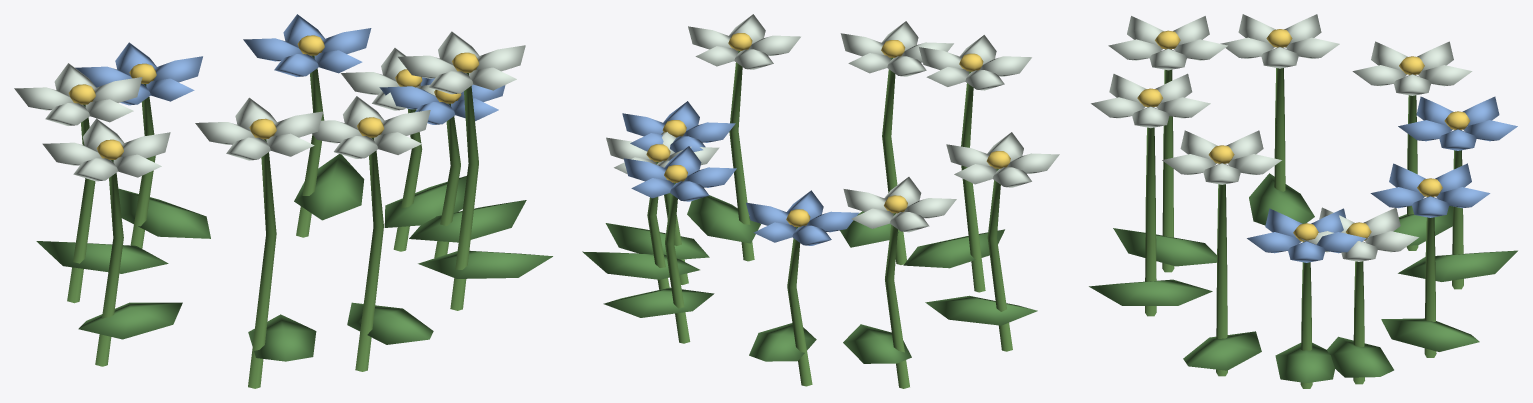
Rendered from flowers.glb.
3 views of the same model, side by side, from view 1: azimuth 30°, elevation 25°; view 2: azimuth 150°, elevation 25°; view 3: azimuth 270°, elevation 25° (orthographic). The views are drawn at different scales.
Parts seen in each view (by area): view 1: flowers_Painted jade foliage, flowers_Porcelain petals; view 2: flowers_Porcelain petals, flowers_Painted jade foliage; view 3: flowers_Porcelain petals, flowers_Painted jade foliage.
Boxes of the visible parts, bbox=[...] form: flowers_Painted jade foliage: bbox=[36, 55, 552, 388]; flowers_Porcelain petals: bbox=[14, 14, 525, 181]; flowers_Porcelain petals: bbox=[606, 14, 1059, 245]; flowers_Painted jade foliage: bbox=[582, 50, 1037, 388]; flowers_Porcelain petals: bbox=[1091, 14, 1517, 262]; flowers_Painted jade foliage: bbox=[1089, 47, 1517, 388].
Size of the model in its own units: 0.973 by 0.5137 by 0.8247.
